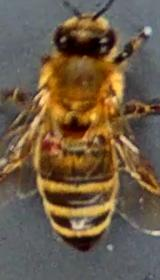varroa_mite: (31, 128, 68, 164)
